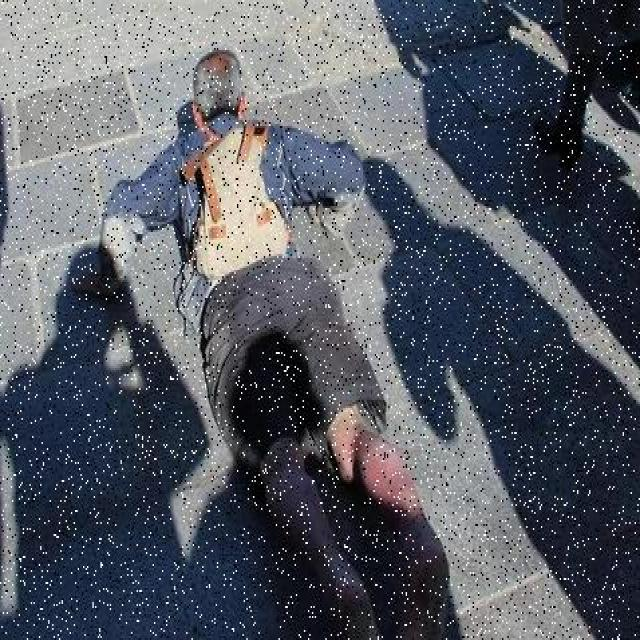fall: (111, 44, 415, 638)
